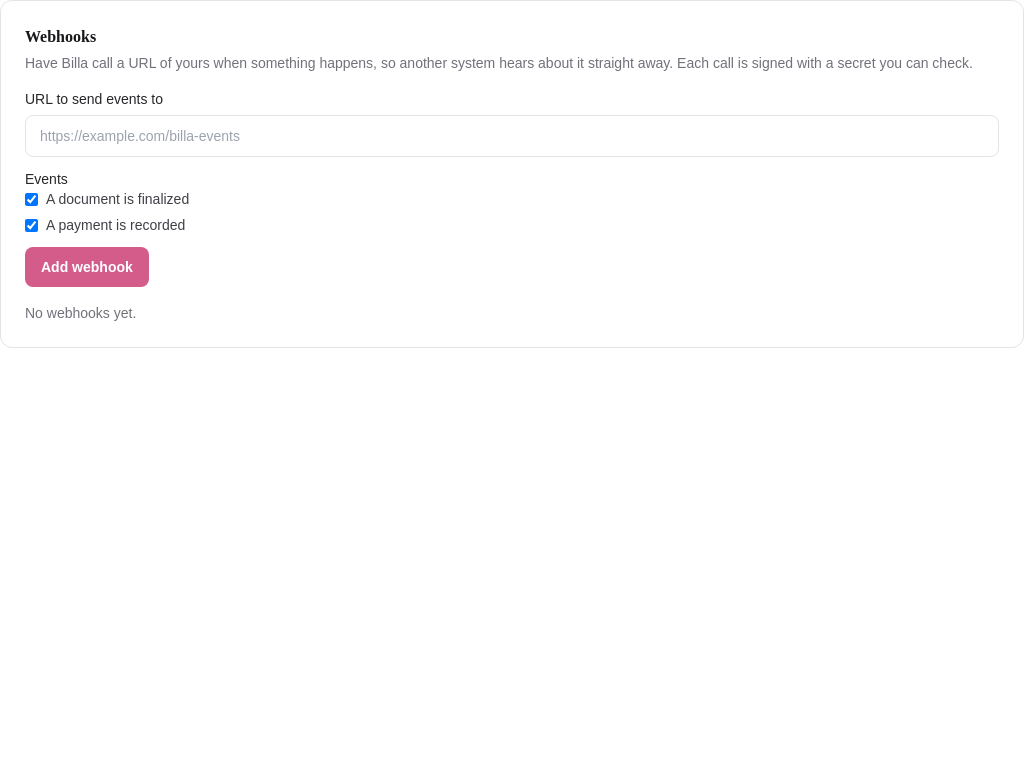
Test case: WebhooksSection › adds a webhook and shows its secret once, with a copy button
In the field labelled "URL to send events to": (512, 136) [25,115,999,157], type "https://hooks.example.com/billa"
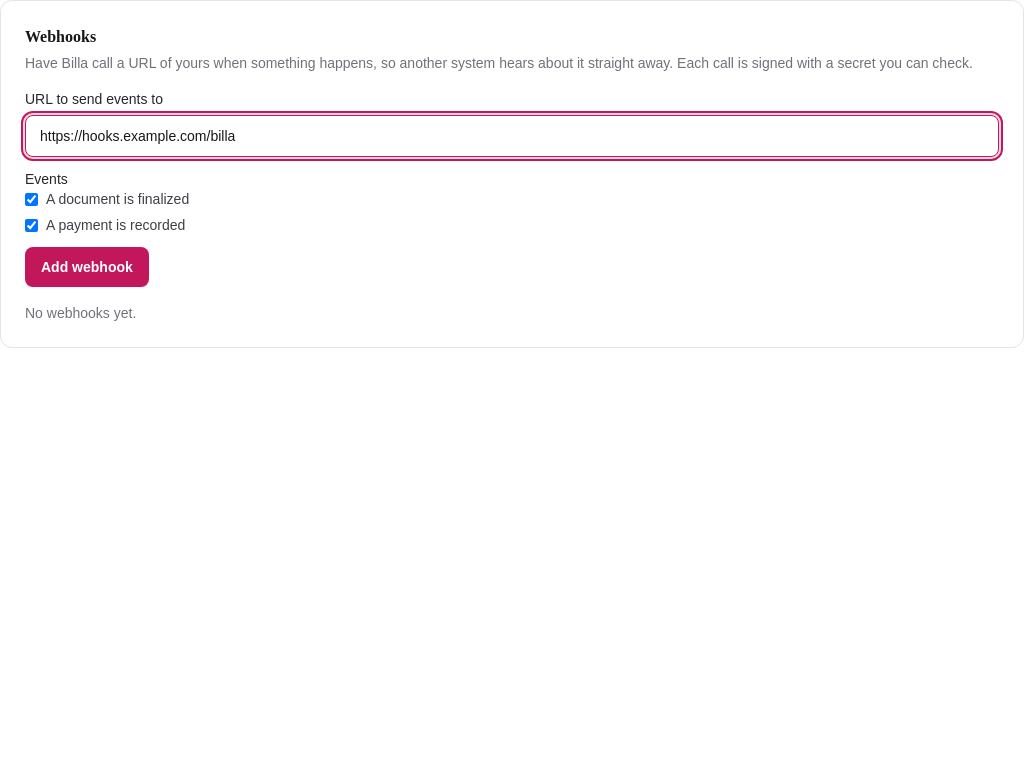
Click the checkbox labelled "A document is finalized": click(32, 199) [25,192,38,206]
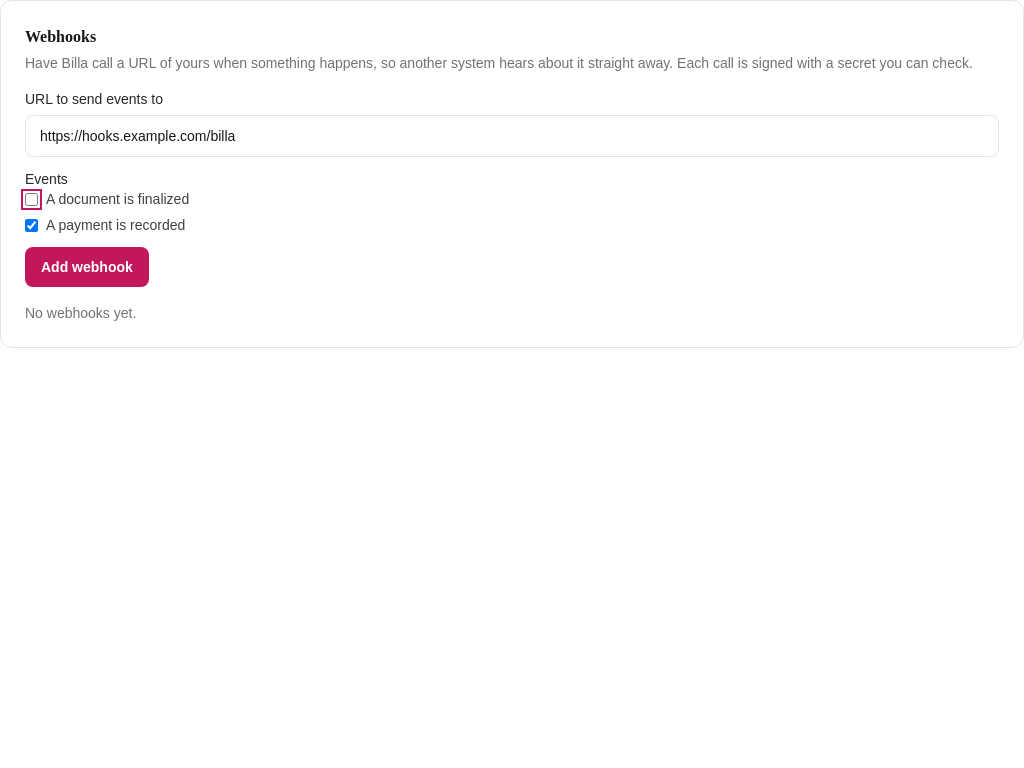
Click the button "Add webhook": click(87, 267) [25,247,149,287]
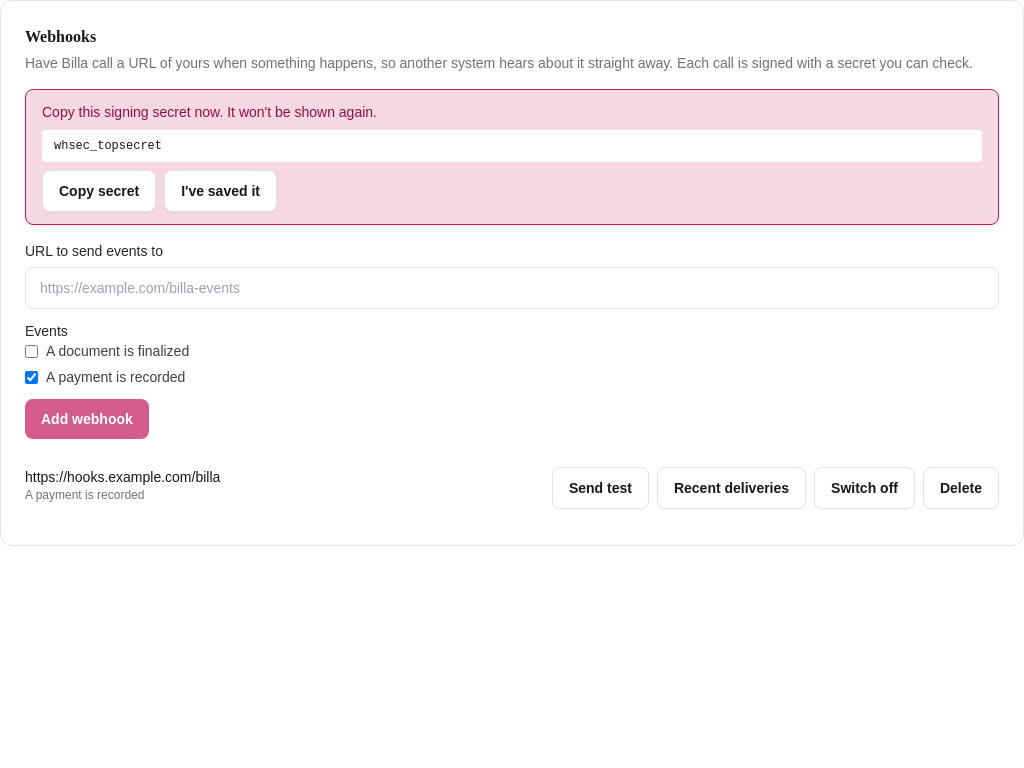
Expected: the text "whsec_topsecret" is shown, [42,130,982,162]
Click the button "Copy secret": click(99, 191) [42,170,156,212]
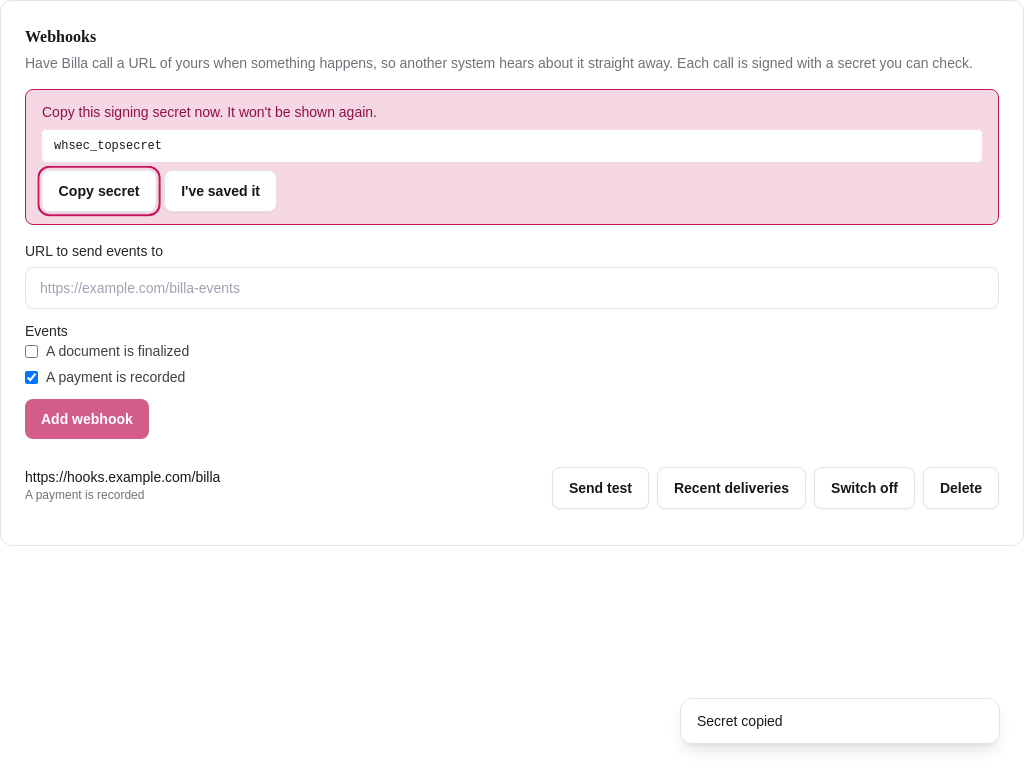
Click the button "I've saved it": click(221, 191) [164,170,277,212]
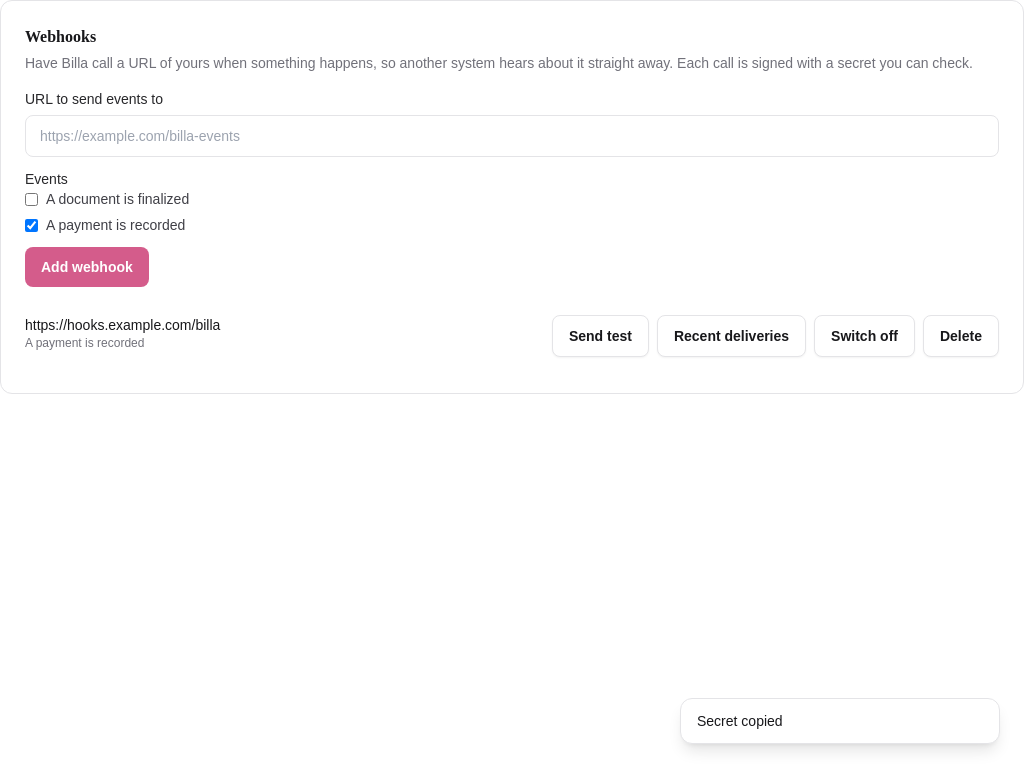
Expected: the text "whsec_topsecret" is gone
